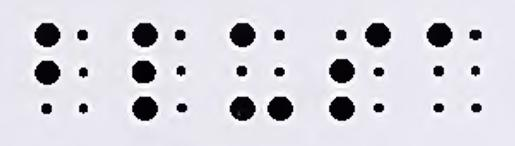letter_a: (426, 20, 483, 116)
letter_b: (31, 24, 95, 115)
letter_l: (129, 21, 190, 121)
letter_s: (325, 20, 391, 122)
letter_u: (228, 24, 291, 124)
